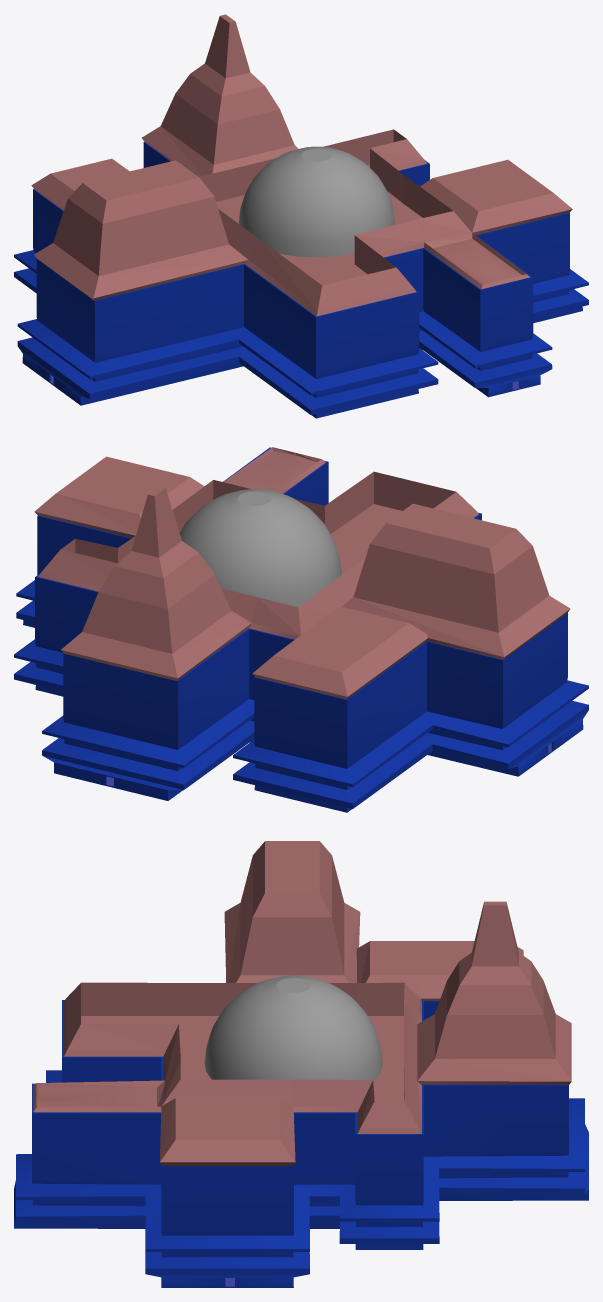
Rendered from SS Module DomeRoom.FBX.
The picture shows the model from 3 angles, top to bottom: view 1: azimuth 30°, elevation 25°; view 2: azimuth 150°, elevation 25°; view 3: azimuth 270°, elevation 25°; orthographic projection. The views are drawn at different scales.
Visible parts, largest first — view 1: Plane154, Ceiling001, Sphere002; view 2: Ceiling001, Plane154, Sphere002; view 3: Ceiling001, Plane154, Sphere002.
Boxes of the visible parts, bbox=[...] form: Plane154: bbox=[14, 142, 588, 418]; Ceiling001: bbox=[31, 14, 572, 316]; Sphere002: bbox=[238, 146, 394, 257]; Ceiling001: bbox=[34, 447, 570, 699]; Plane154: bbox=[14, 447, 588, 812]; Sphere002: bbox=[179, 489, 341, 607]; Ceiling001: bbox=[33, 841, 571, 1165]; Plane154: bbox=[14, 982, 588, 1287]; Sphere002: bbox=[204, 975, 382, 1080].
Bounding box in the file's own units: 256 × 122 × 237.
